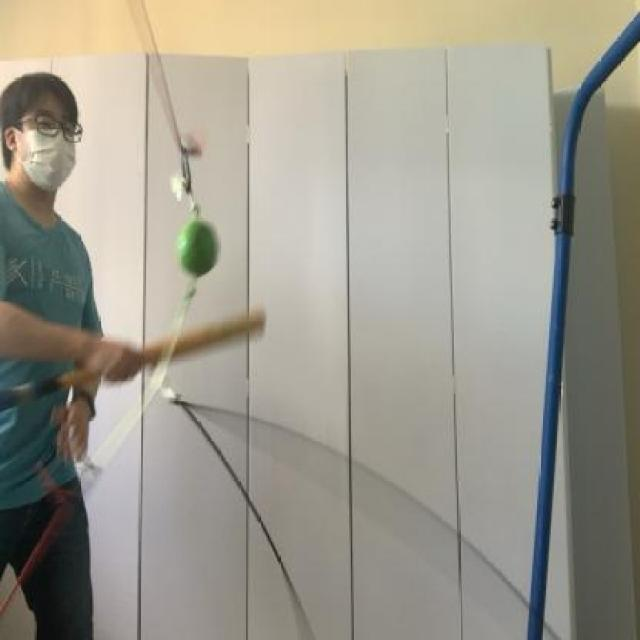baseball: (163, 208, 234, 282)
